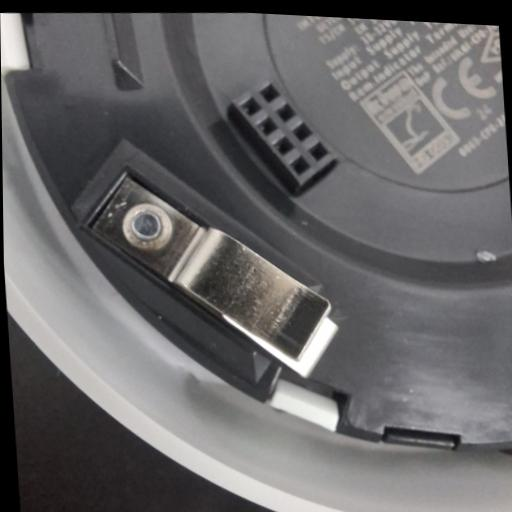yayli: (77, 158, 336, 387)
